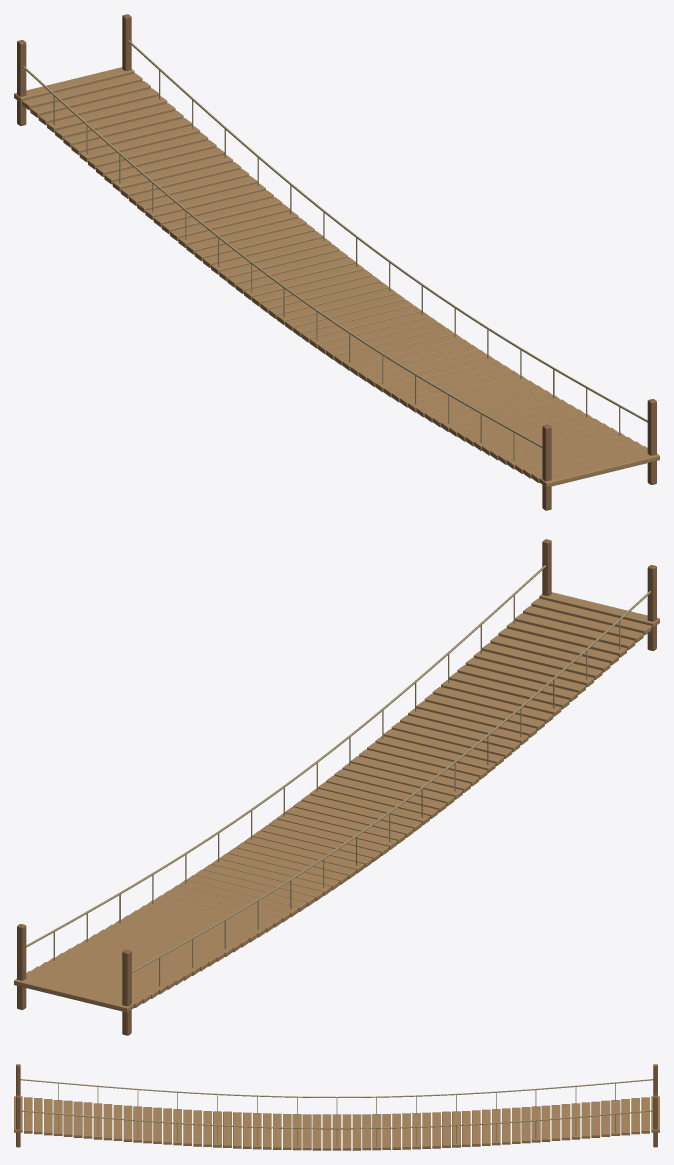
File: Bridge_Rope.glb
3 renders of one model, top to bottom at view 1: azimuth 30°, elevation 25°; view 2: azimuth 150°, elevation 25°; view 3: azimuth 270°, elevation 25°, orthographic. The views are drawn at different scales.
Parts seen in each view (by area): view 1: Bridge_Rope; view 2: Bridge_Rope; view 3: Bridge_Rope.
Boxes of the visible parts, bbox=[...] form: Bridge_Rope: bbox=[14, 14, 659, 510]; Bridge_Rope: bbox=[14, 539, 659, 1035]; Bridge_Rope: bbox=[14, 1064, 659, 1150].
Size of the model in its own units: 4 by 2.96 by 32.44.
